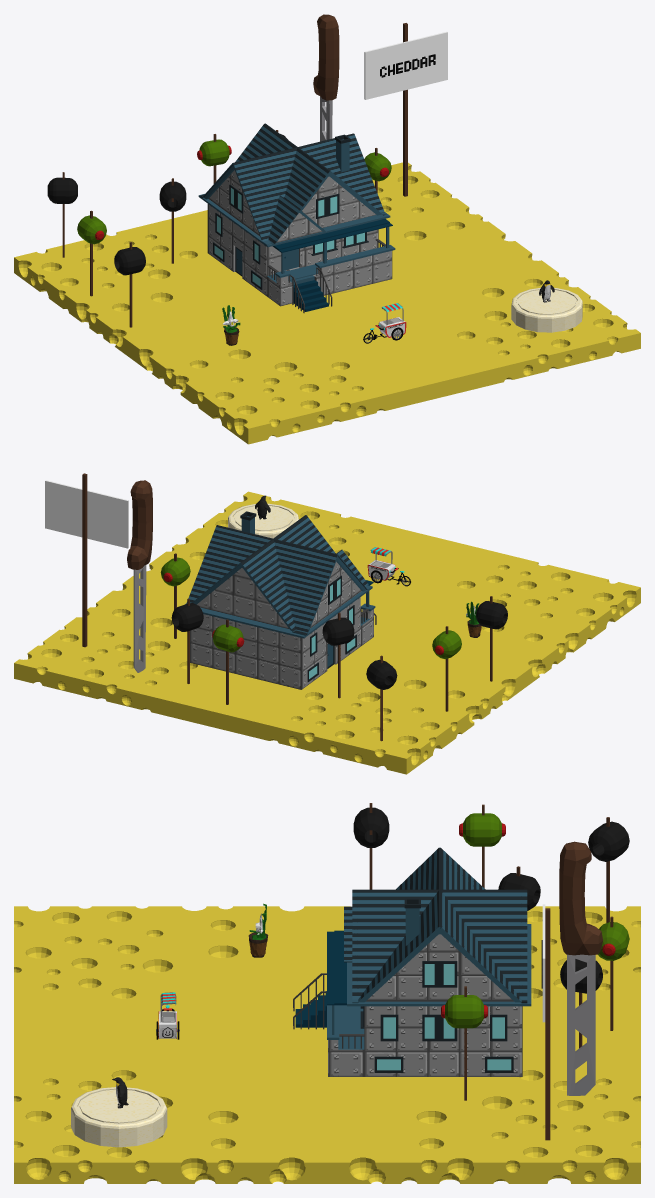
The picture shows the model from 3 angles, top to bottom: view 1: azimuth 30°, elevation 25°; view 2: azimuth 150°, elevation 25°; view 3: azimuth 270°, elevation 25°; orthographic projection. The views are drawn at different scales.
Visible parts, largest first — view 1: Cube.022, Cube.078, Cube.023, Cylinder.016, Cube.024, Sphere.017, Sphere.016, Sphere.020, Sphere.018, Sphere.022, VEHICLES_SNOWBAL_BIKE, Sphere.019; view 2: Cube.022, Cube.078, Cube.023, Cube.024, Cylinder.016, Sphere.017, Sphere.020, Sphere.021, Sphere.016, Sphere.018, Sphere.022, VEHICLES_SNOWBAL_BIKE (+1 smaller); view 3: Cube.022, Cube.078, Cube.024, Cylinder.016, Cube.023, Sphere.019, Sphere.016, Sphere.018, Sphere.017, Sphere.022, VEHICLES_SNOWBAL_BIKE, Sphere.020 (+2 smaller).
Part boxes in pixels (left/top/right/bottom): Cube.022: left=14, top=162, right=640, bottom=444; Cube.078: left=198, top=123, right=395, bottom=313; Cube.023: left=364, top=23, right=447, bottom=196; Cylinder.016: left=511, top=287, right=582, bottom=332; Cube.024: left=313, top=14, right=339, bottom=141; Sphere.017: left=114, top=242, right=145, bottom=327; Sphere.016: left=47, top=172, right=77, bottom=257; Sphere.020: left=159, top=178, right=186, bottom=263; Sphere.018: left=77, top=210, right=106, bottom=296; Sphere.022: left=197, top=134, right=231, bottom=183; VEHICLES_SNOWBAL_BIKE: left=363, top=303, right=406, bottom=343; Sphere.019: left=364, top=148, right=391, bottom=192; Cube.022: left=14, top=491, right=640, bottom=774; Cube.078: left=185, top=511, right=376, bottom=689; Cube.023: left=45, top=473, right=128, bottom=647; Cube.024: left=127, top=480, right=152, bottom=672; Cylinder.016: left=228, top=503, right=298, bottom=538; Sphere.017: left=476, top=596, right=507, bottom=681; Sphere.020: left=322, top=612, right=354, bottom=698; Sphere.021: left=171, top=598, right=203, bottom=683; Sphere.016: left=366, top=655, right=397, bottom=741; Sphere.018: left=432, top=626, right=461, bottom=711; Sphere.022: left=212, top=619, right=244, bottom=704; VEHICLES_SNOWBAL_BIKE: left=367, top=547, right=410, bottom=586; Cube.022: left=14, top=906, right=640, bottom=1183; Cube.078: left=293, top=847, right=531, bottom=1076; Cube.024: left=559, top=841, right=602, bottom=1095; Cylinder.016: left=71, top=1087, right=167, bottom=1147; Cube.023: left=541, top=904, right=550, bottom=1140; Sphere.019: left=441, top=986, right=487, bottom=1100; Sphere.016: left=588, top=817, right=629, bottom=922; Sphere.018: left=459, top=804, right=505, bottom=887; Sphere.017: left=353, top=803, right=389, bottom=889; Sphere.022: left=598, top=916, right=629, bottom=1030; VEHICLES_SNOWBAL_BIKE: left=156, top=992, right=179, bottom=1039; Sphere.020: left=498, top=866, right=540, bottom=910.
Size of the model in its own units: 3917 by 2023 by 4000.
36 materials, 5 textured.
